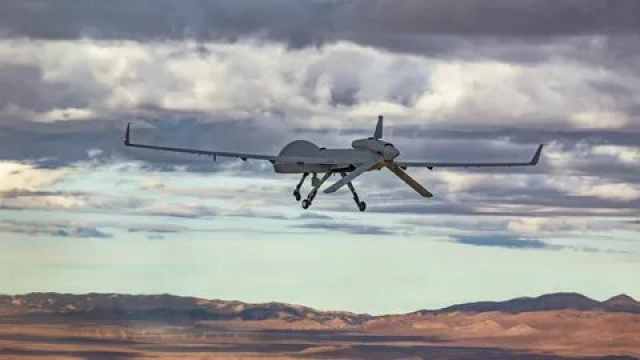military drone: (124, 114, 544, 211)
